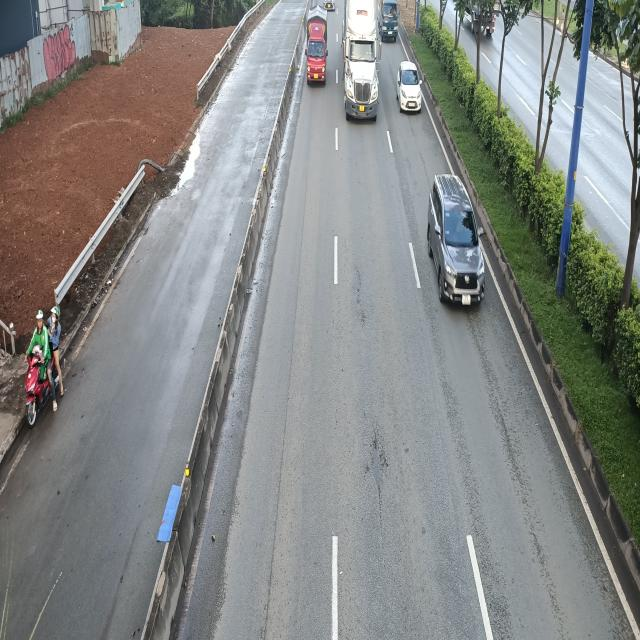car: (430, 172, 486, 305), (399, 60, 425, 112)
container: (342, 2, 383, 124)
truck: (304, 8, 328, 88), (378, 0, 401, 43)
